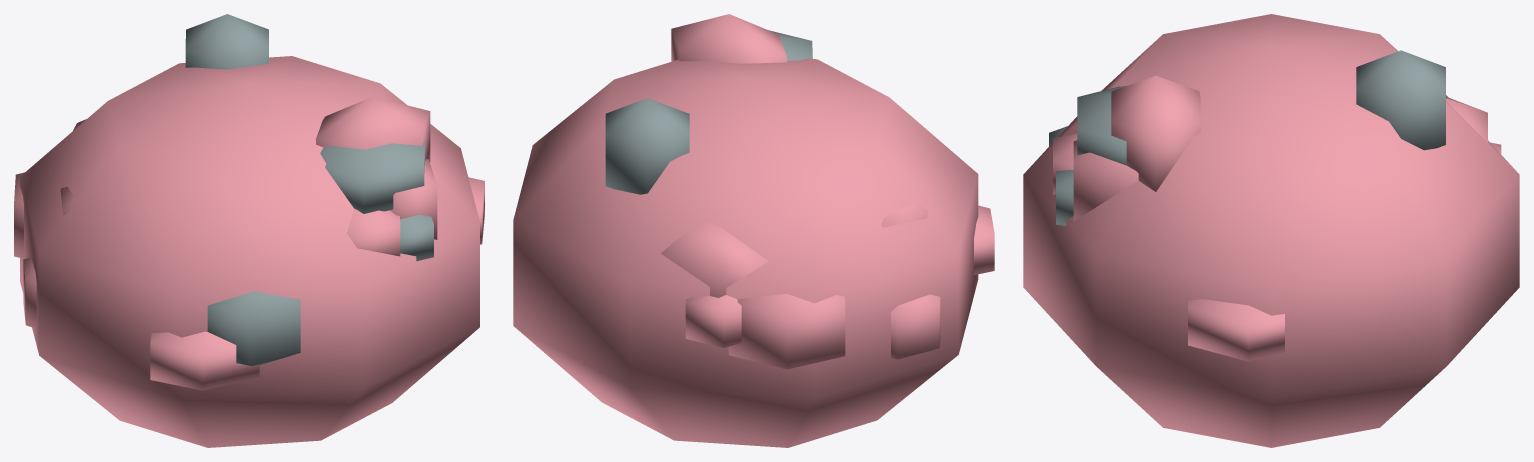
Rendered from sunken-city-and-underwater-ruins-coral-head-domed-a01b3911__36986.glb.
3 views of the same model, side by side, from view 1: azimuth 30°, elevation 25°; view 2: azimuth 150°, elevation 25°; view 3: azimuth 270°, elevation 25° (orthographic). The views are drawn at different scales.
Visible parts, largest first — view 1: coral-head-domed; view 2: coral-head-domed; view 3: coral-head-domed.
Part boxes in pixels (x1,y1,x2,y2): coral-head-domed: [14, 14, 484, 447]; coral-head-domed: [513, 14, 994, 447]; coral-head-domed: [1023, 14, 1519, 447].
Size of the model in its own units: 1.67 by 1.3 by 1.52.
